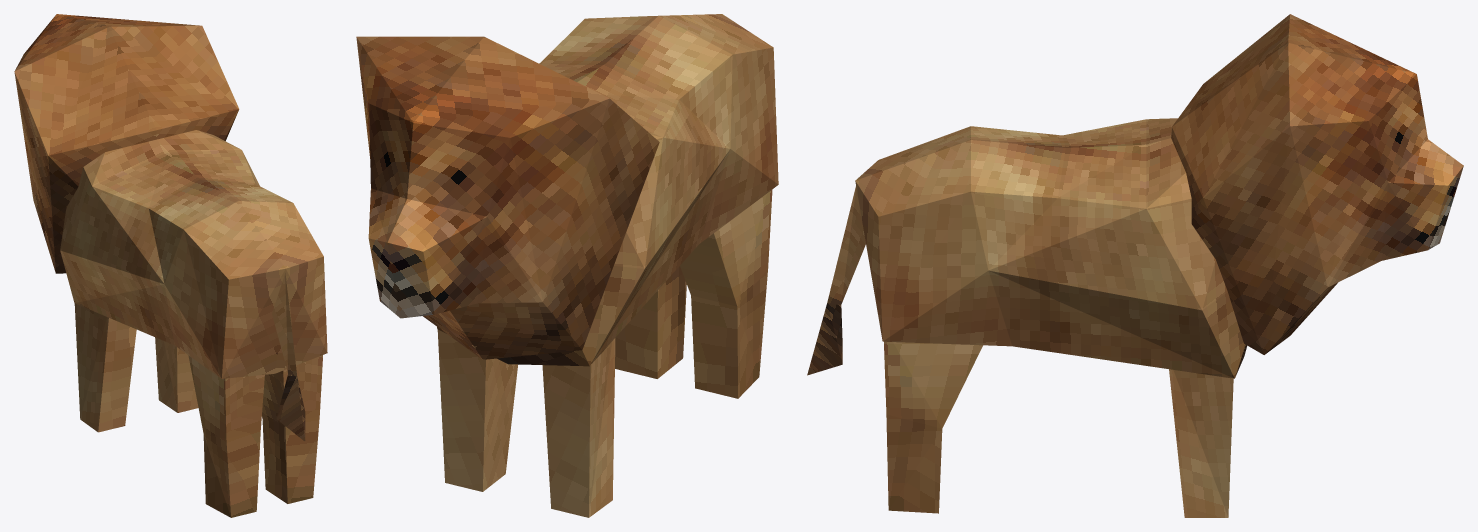
File: Lion_Lion.glb
The picture shows the model from 3 angles, left to right: view 1: azimuth 30°, elevation 25°; view 2: azimuth 150°, elevation 25°; view 3: azimuth 270°, elevation 25°; orthographic projection. The views are drawn at different scales.
Parts seen in each view (by area): view 1: Body, Head, Leg3, Leg4, Leg1, Leg2; view 2: Head, Body, Leg3, Leg1, Leg2, Leg4; view 3: Body, Head, Leg4, Leg2.
Boxes of the visible parts, x1,y1,x2,y2 form: Body: [60, 130, 327, 441]; Head: [14, 14, 239, 273]; Leg3: [188, 355, 264, 517]; Leg4: [262, 355, 322, 503]; Leg1: [74, 303, 136, 432]; Leg2: [155, 337, 198, 412]; Head: [356, 36, 659, 359]; Body: [437, 14, 778, 366]; Leg3: [680, 189, 772, 398]; Leg1: [542, 338, 615, 517]; Leg2: [437, 329, 517, 491]; Leg4: [615, 266, 686, 378]; Body: [807, 118, 1247, 378]; Head: [1171, 14, 1463, 354]; Leg4: [884, 341, 982, 513]; Leg2: [1169, 369, 1233, 517].
Size of the model in its own units: 0.7457 by 1.35 by 1.81.
1 material, 1 textured.
